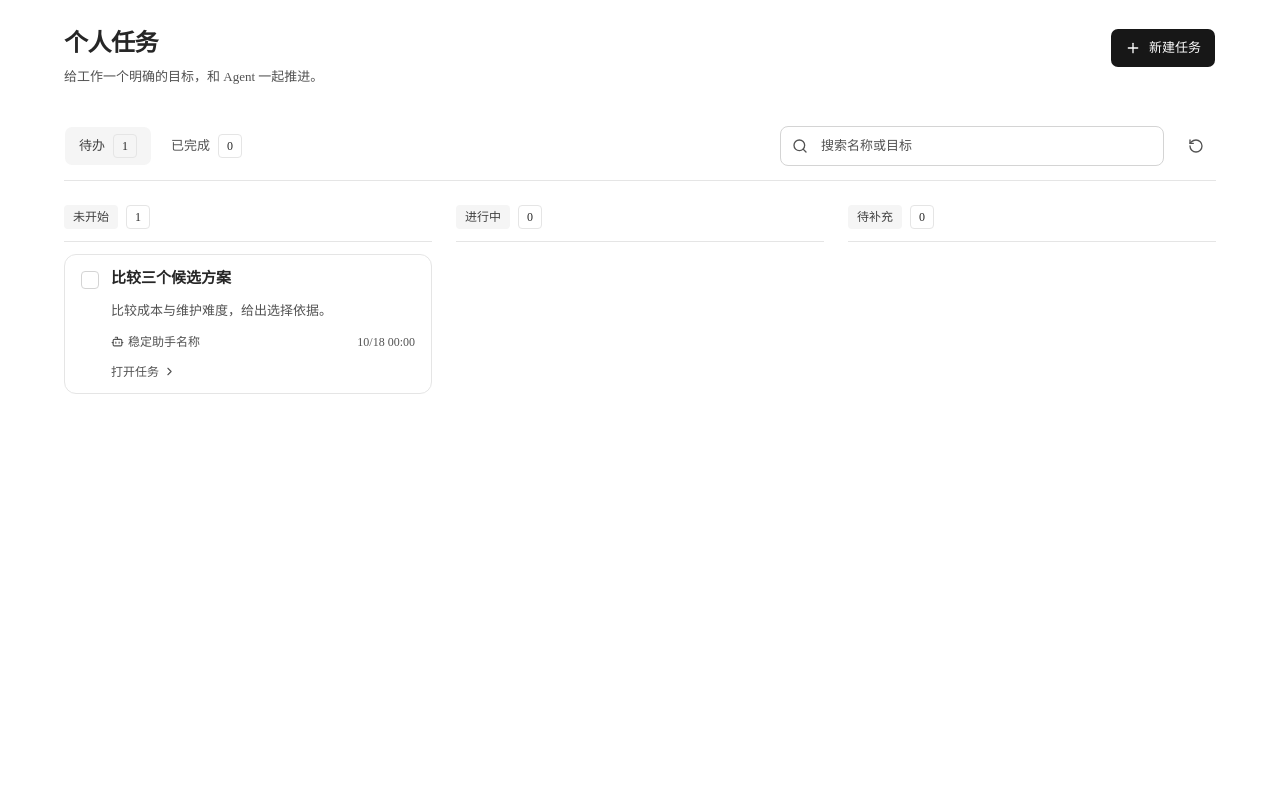
it: shadcn task controls preserve task behavior › focuses the first invalid input and retains the creation draft after cancel and reopen
Click the button "新建任务" at (1163, 48), box 1110,28 -> 1216,68
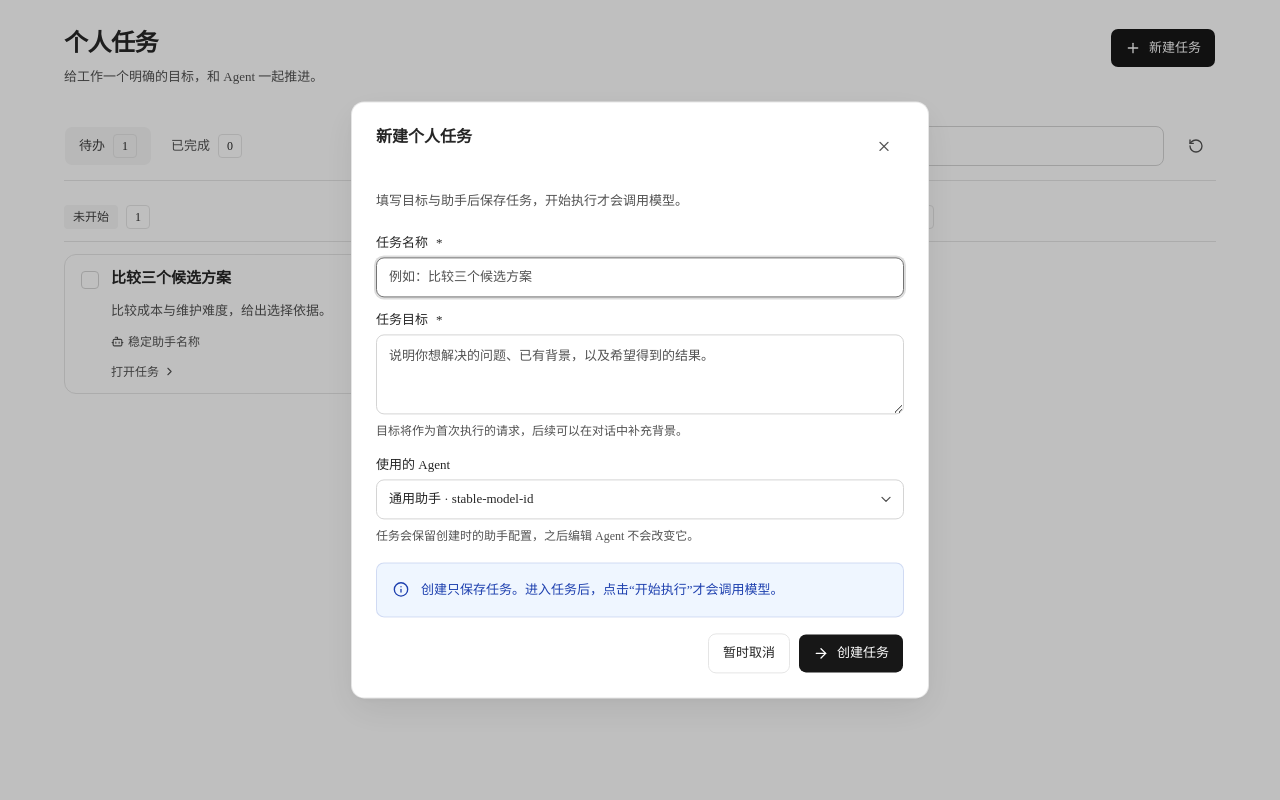
Click the button "创建任务" at (851, 654), box 798,634 -> 904,674
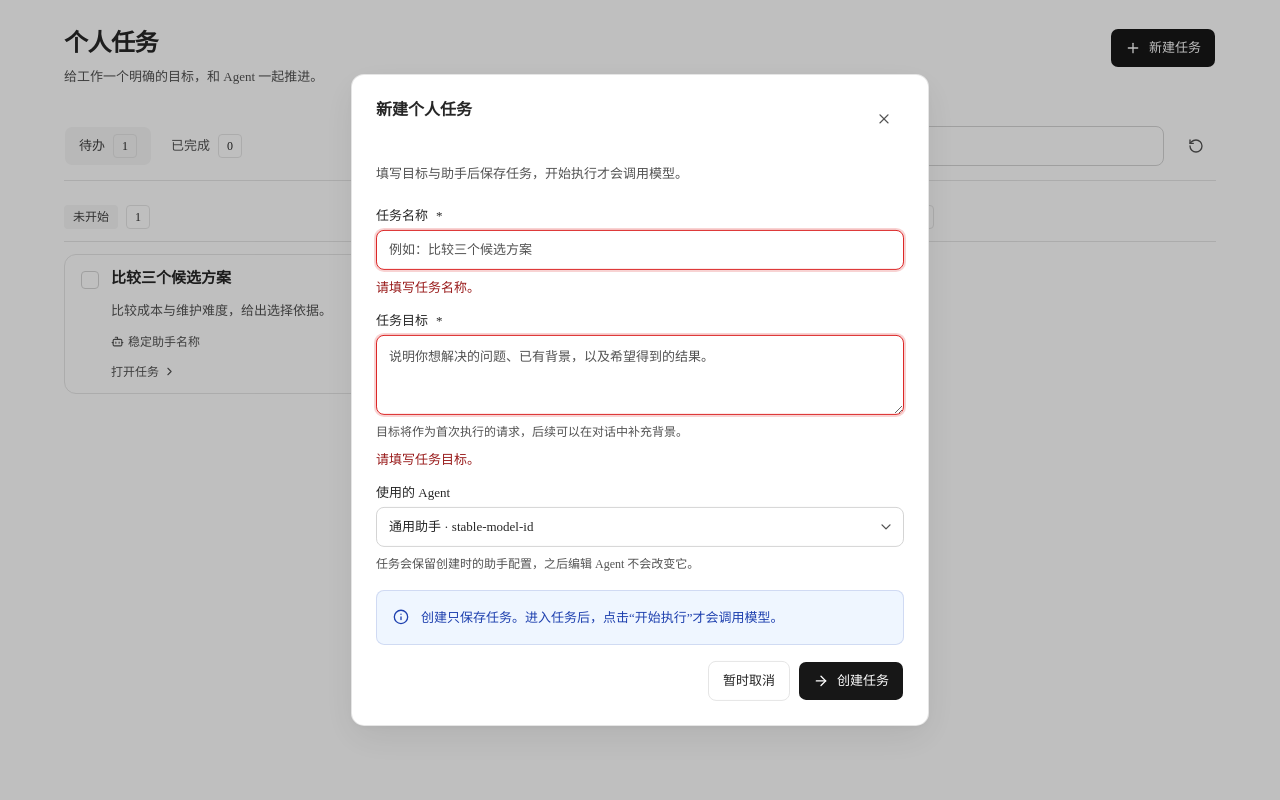
Check: the field labelled "任务名称" is marked as invalid
Type "保留的任务草稿" into the field labelled "任务名称" at (640, 250), box 376,230 -> 904,270
Type "取消后仍然保留的目标。" into the text box labelled "任务目标" at (640, 374), box 376,334 -> 904,414
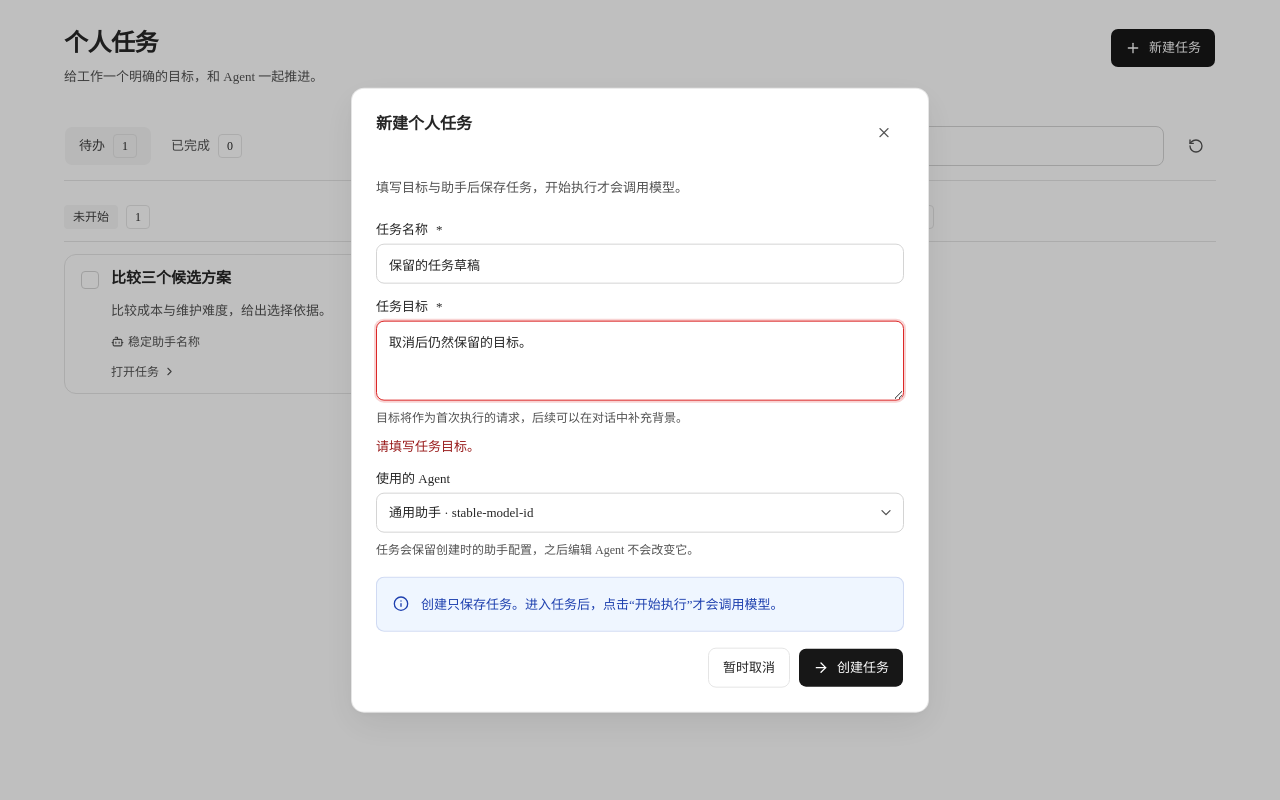
Select "稳定助手名称 · stable-model-id" in the dropdown labelled "使用的 Agent" at (640, 513), box 376,493 -> 904,533
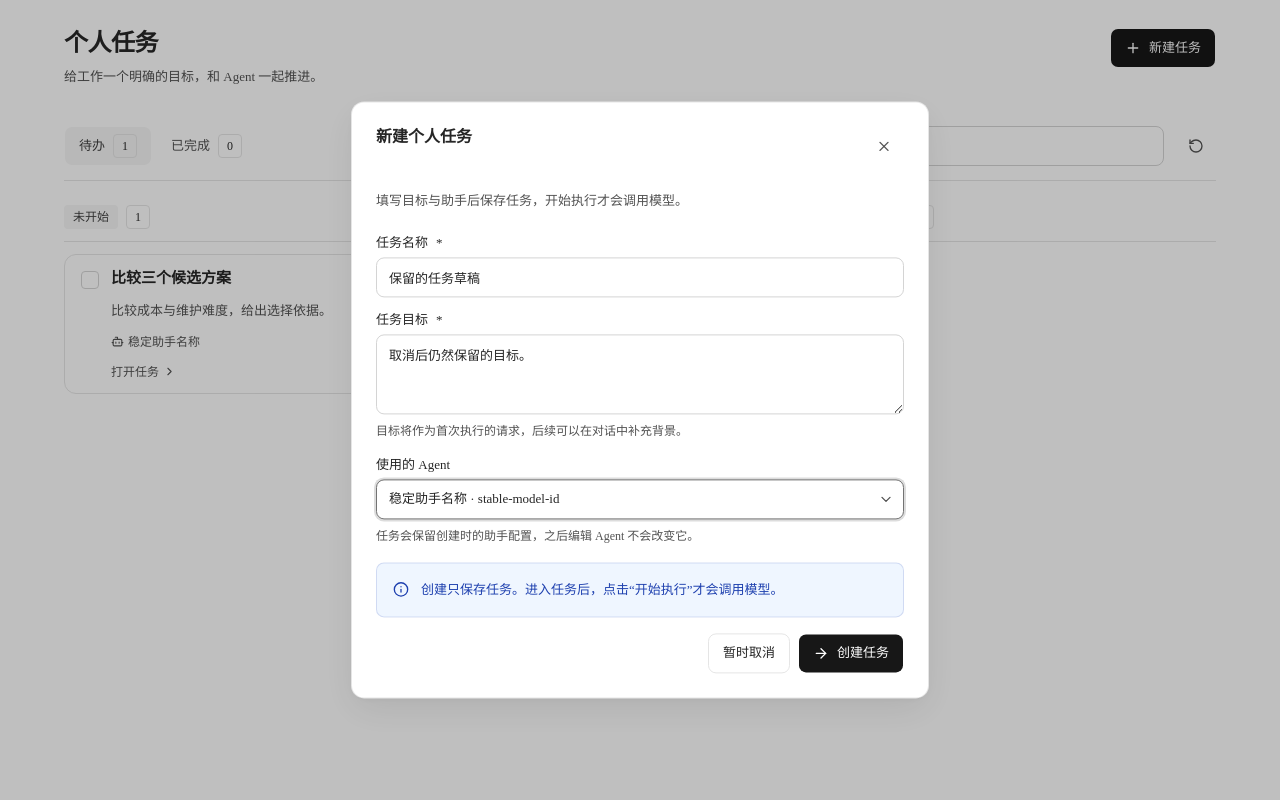
Click the button "暂时取消" at (749, 654), box 708,634 -> 790,674
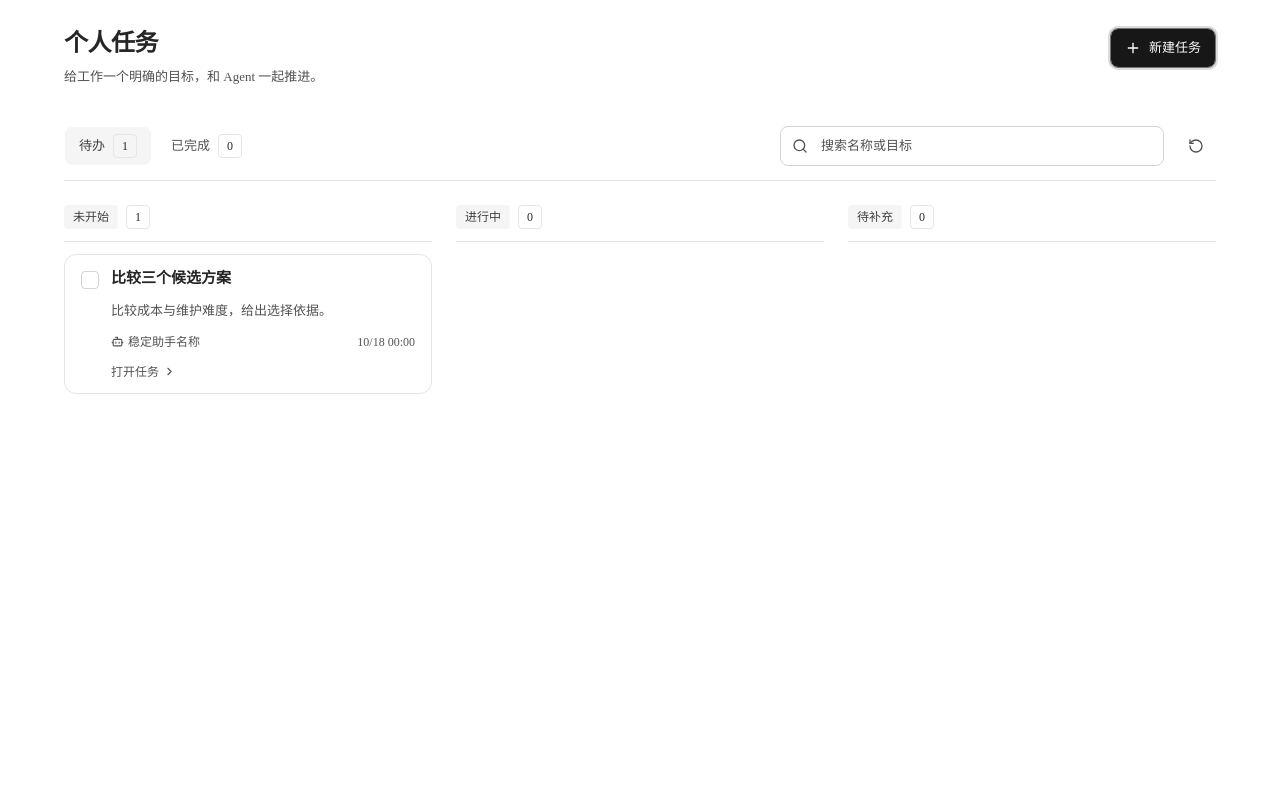
Check: the dialog is gone
Click the button "新建任务" at (1163, 48), box 1110,28 -> 1216,68
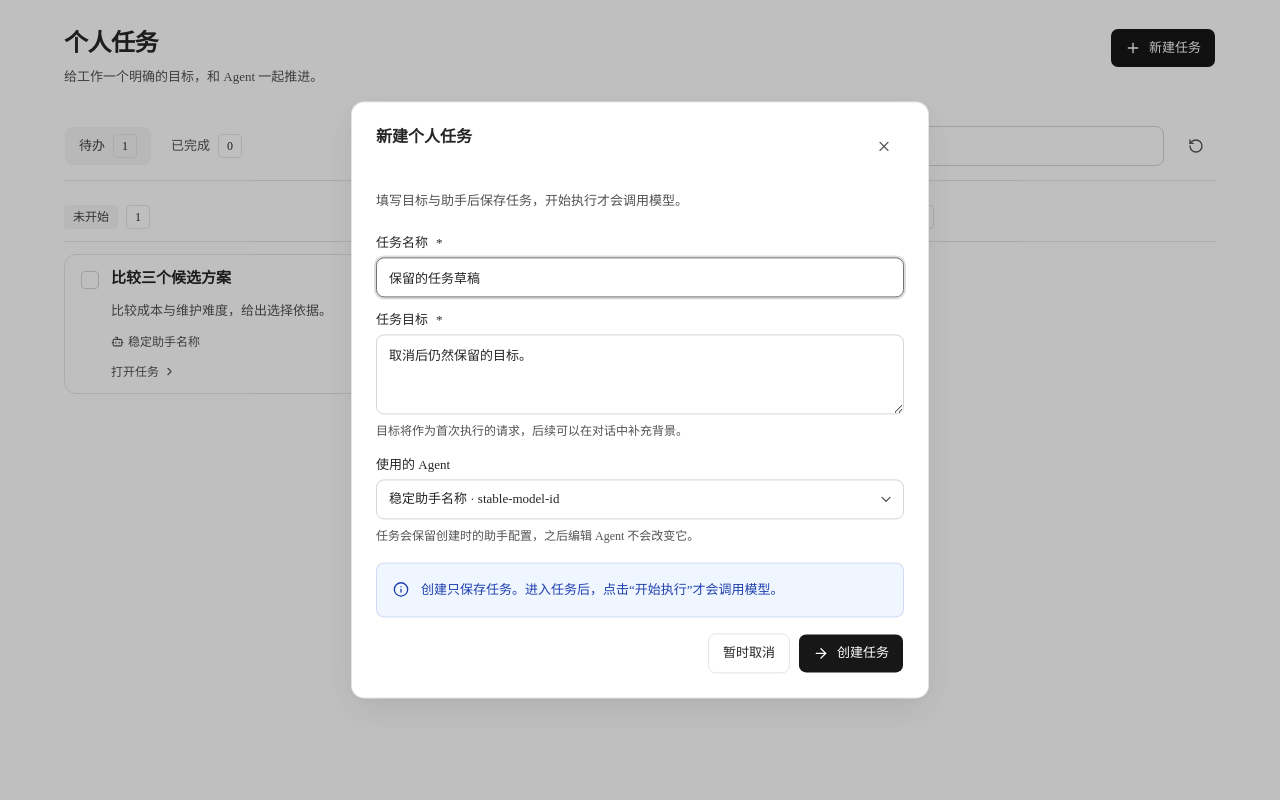
Check: the field labelled "任务名称" holds "保留的任务草稿", box 376,258 -> 904,298
Check: the text box labelled "任务目标" holds "取消后仍然保留的目标。", box 376,334 -> 904,414
Check: the dropdown labelled "使用的 Agent" shows "稳定助手名称 · stable-model-id", box 376,479 -> 904,519
